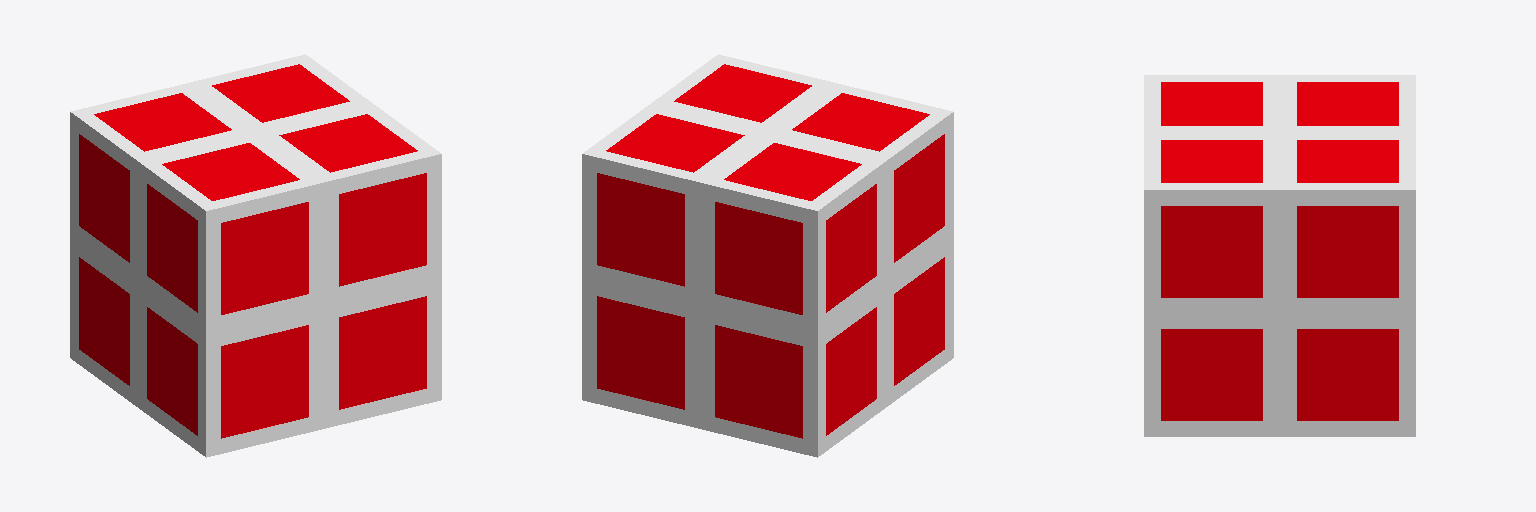
The picture shows the model from 3 angles: view 1: azimuth 30°, elevation 25°; view 2: azimuth 150°, elevation 25°; view 3: azimuth 270°, elevation 25°; orthographic projection.
Parts seen in each view (by area): view 1: Cube; view 2: Cube; view 3: Cube.
Boxes of the visible parts, x1=… form: Cube: x1=70, y1=54, x2=441, y2=457; Cube: x1=582, y1=54, x2=953, y2=457; Cube: x1=1144, y1=75, x2=1415, y2=436.
Bounding box in the file's own units: 2 × 2 × 2.
Materials: 1 (1 with a texture image).